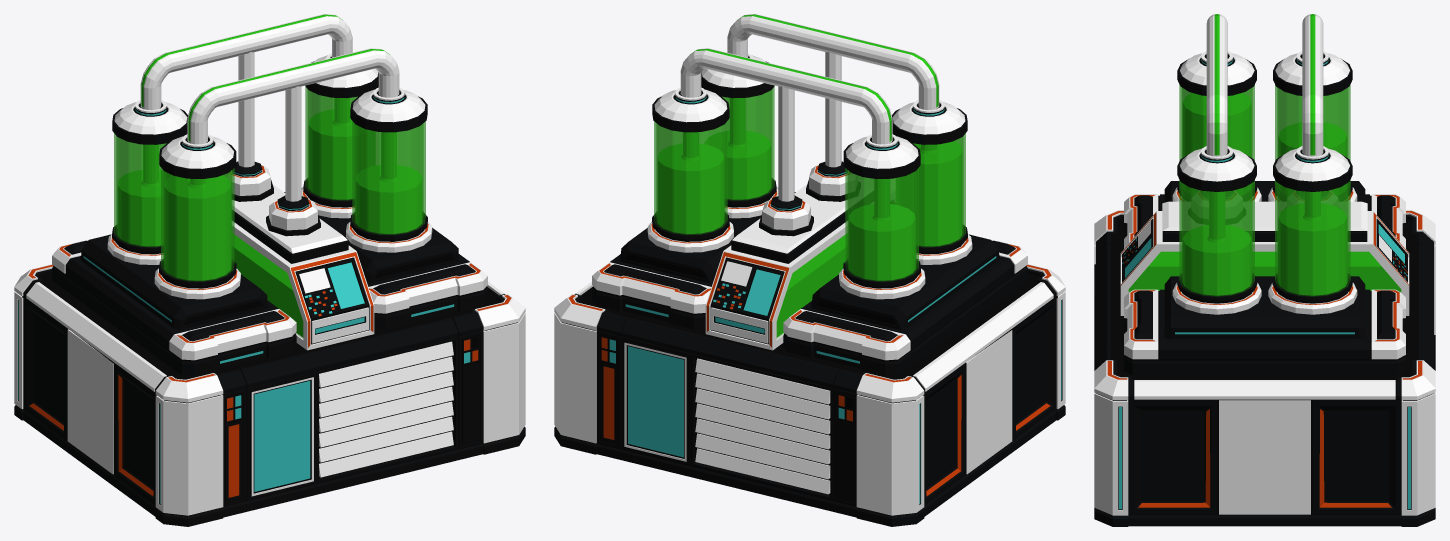
Rendered from SM_BioChem_T2.obj.
3 views of the same model, side by side, from view 1: azimuth 30°, elevation 25°; view 2: azimuth 150°, elevation 25°; view 3: azimuth 270°, elevation 25° (orthographic). The views are drawn at different scales.
Parts seen in each view (by area): view 1: SM_BioChem_T2; view 2: SM_BioChem_T2; view 3: SM_BioChem_T2.
Part boxes in pixels (x1=…): SM_BioChem_T2: x1=14, y1=14, x2=525, y2=526; SM_BioChem_T2: x1=554, y1=14, x2=1065, y2=526; SM_BioChem_T2: x1=1094, y1=14, x2=1435, y2=526.
Size of the model in its own units: 2.5 by 2.47 by 2.
